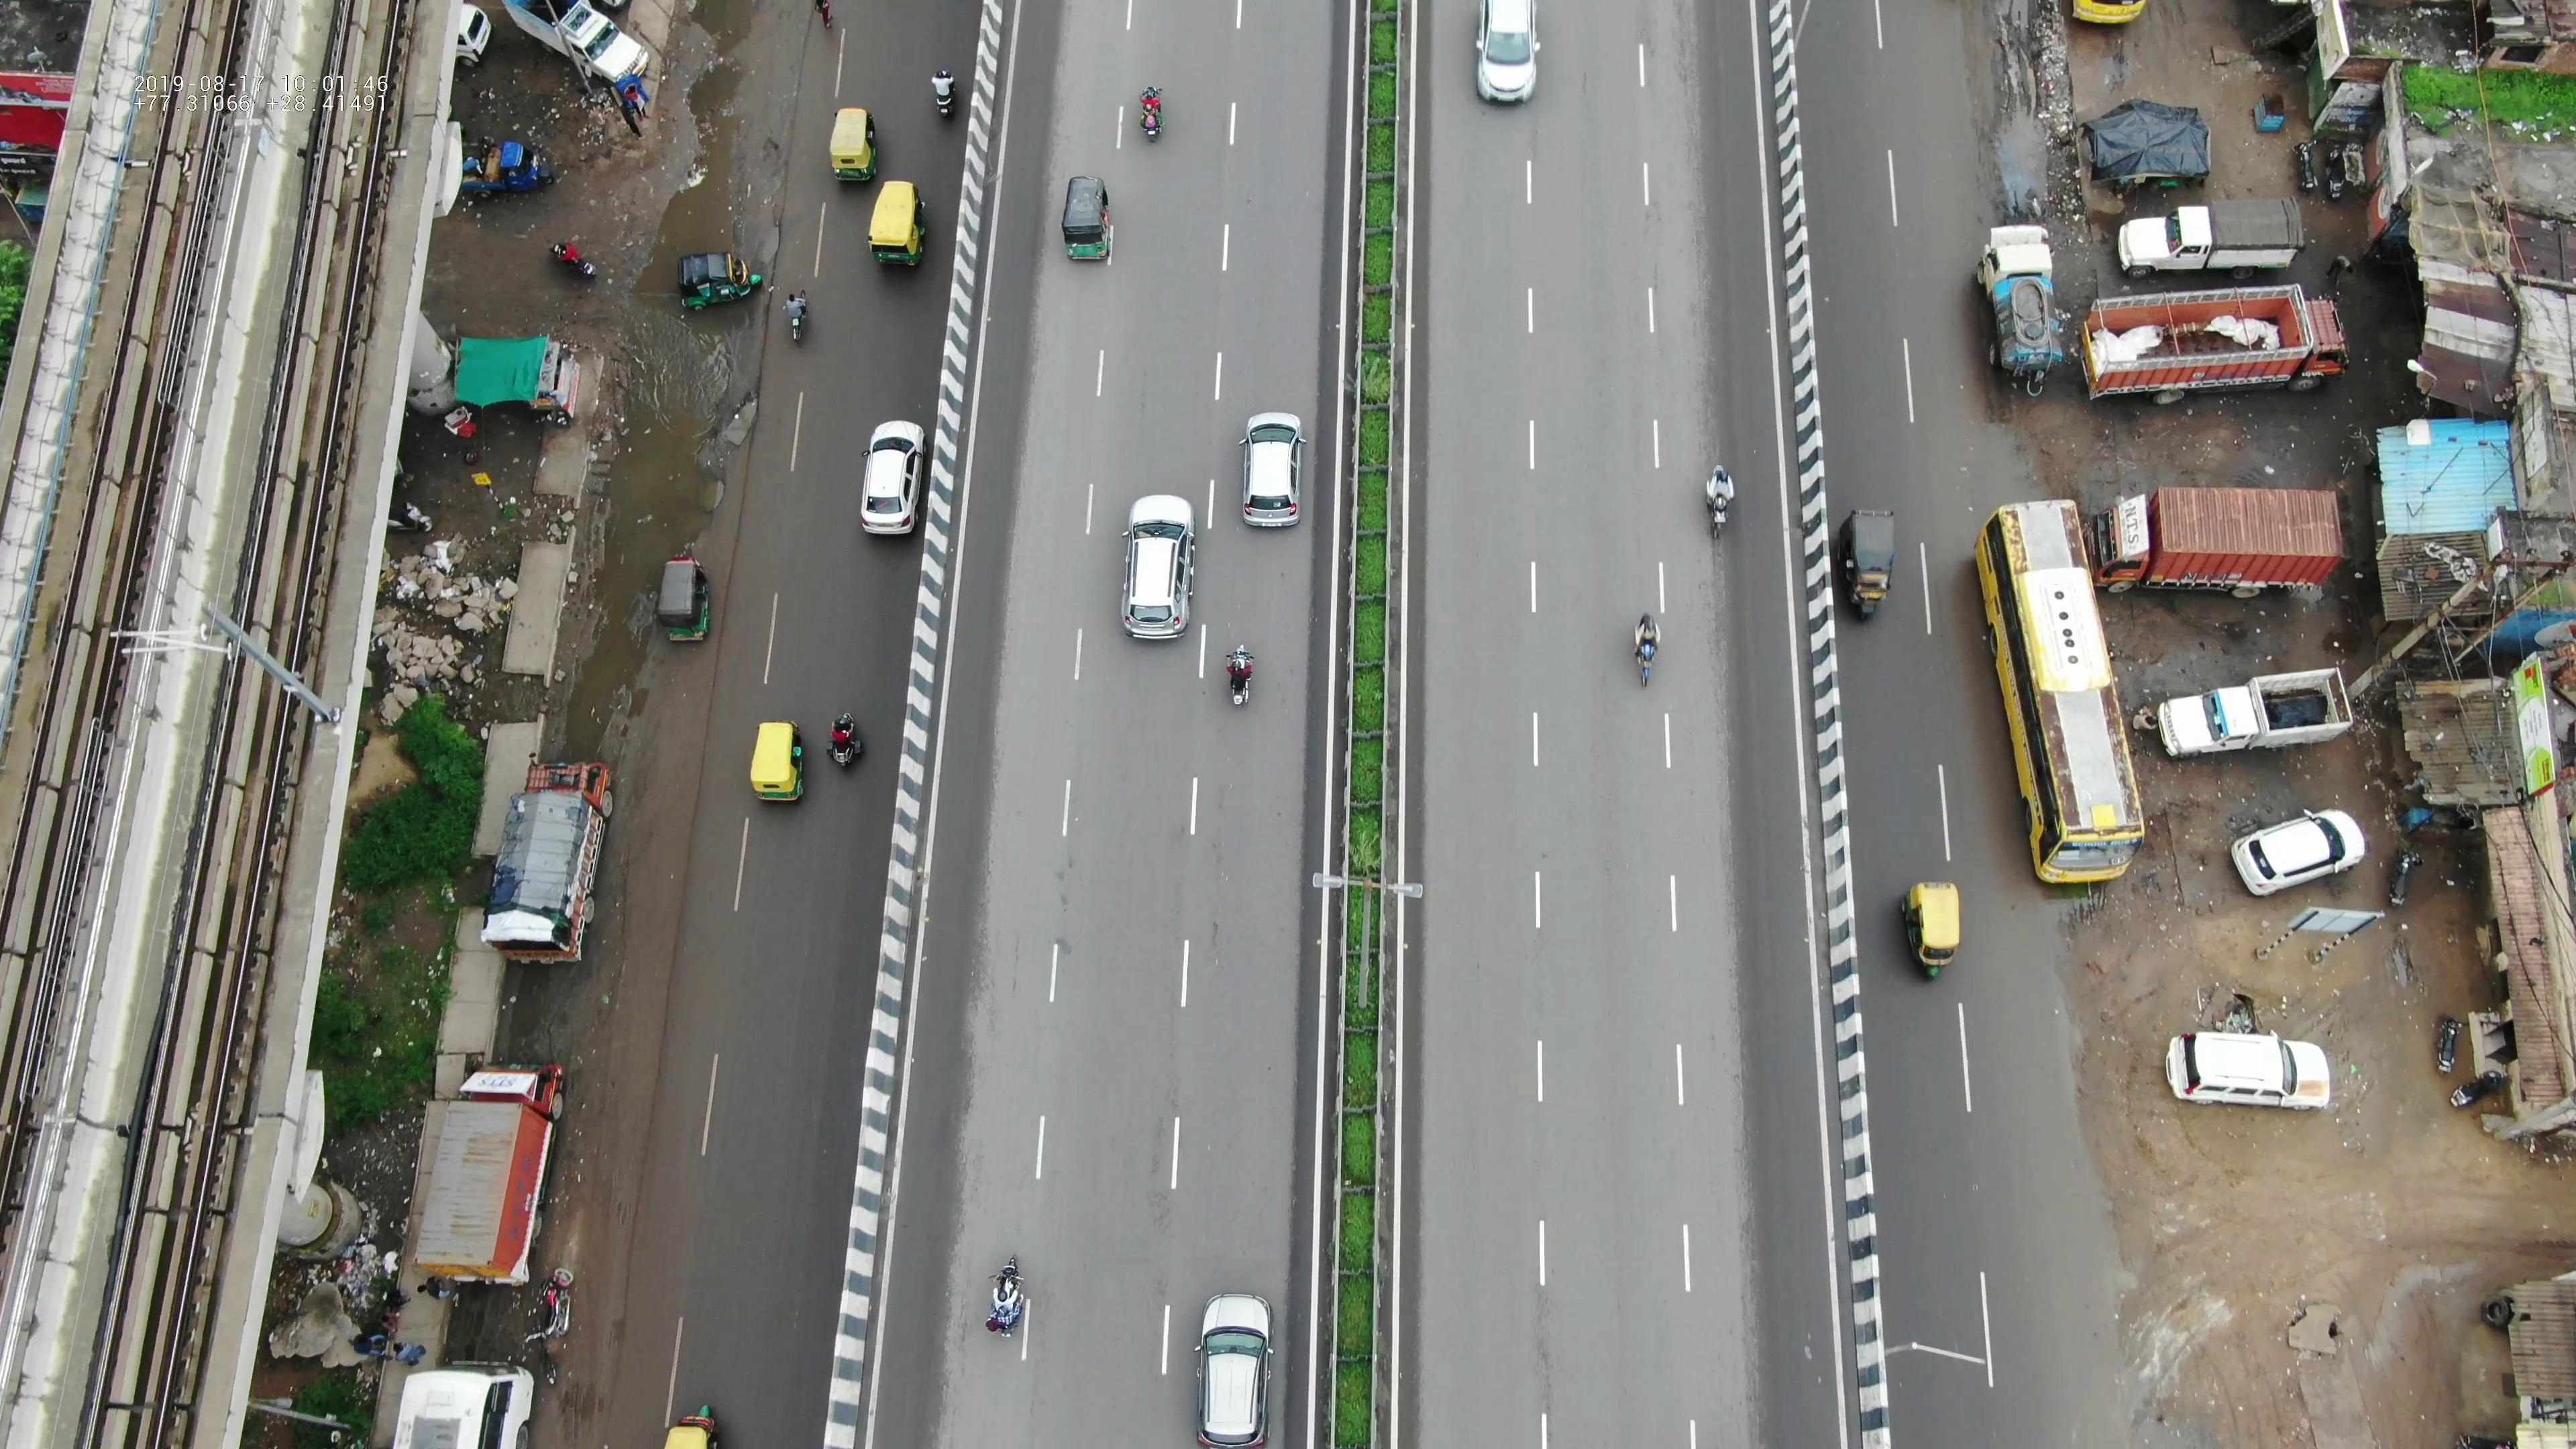Muddy_road: (2095, 1169, 2270, 1435)
Waterlogging: (577, 430, 718, 720), (662, 83, 775, 338), (1969, 7, 2086, 218)
